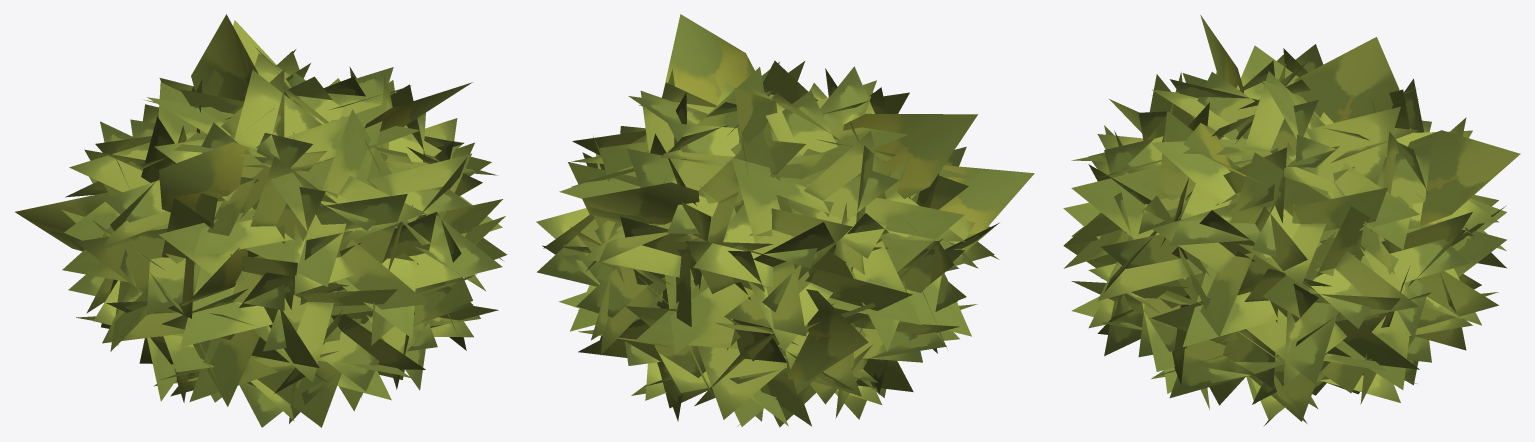
File: Raspberry_Bush_2a.fbx
3 renders of one model, left to right at view 1: azimuth 30°, elevation 25°; view 2: azimuth 150°, elevation 25°; view 3: azimuth 270°, elevation 25°, orthographic.
Visible parts, largest first — view 1: Raspberry_Bush_2a; view 2: Raspberry_Bush_2a; view 3: Raspberry_Bush_2a.
Part boxes in pixels (left/top/right/bottom): Raspberry_Bush_2a: left=15, top=14, right=507, bottom=427; Raspberry_Bush_2a: left=536, top=14, right=1034, bottom=427; Raspberry_Bush_2a: left=1063, top=15, right=1520, bottom=426.
Size of the model in its own units: 116 by 101 by 117.
Materials: 1 (1 with a texture image).
